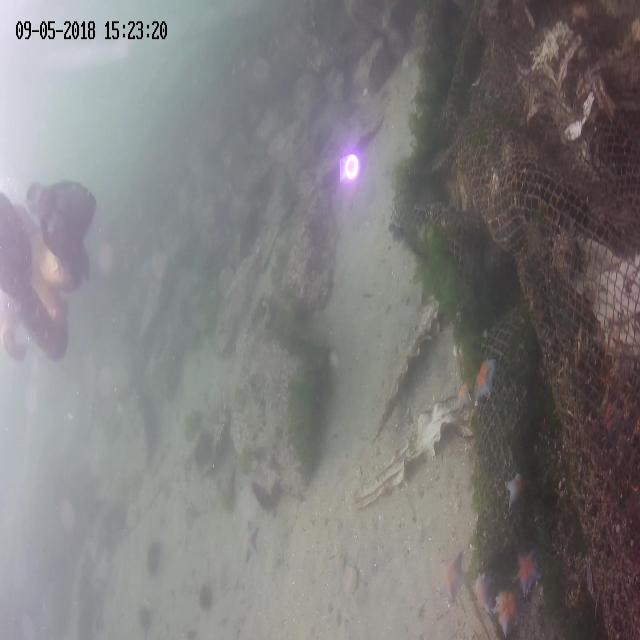scallop: (341, 566, 359, 597)
starfish: (438, 553, 468, 603), (512, 548, 542, 598), (492, 591, 522, 637), (474, 354, 498, 404), (504, 470, 530, 511), (472, 570, 494, 612), (239, 521, 259, 566), (457, 380, 471, 414), (402, 44, 415, 70)
